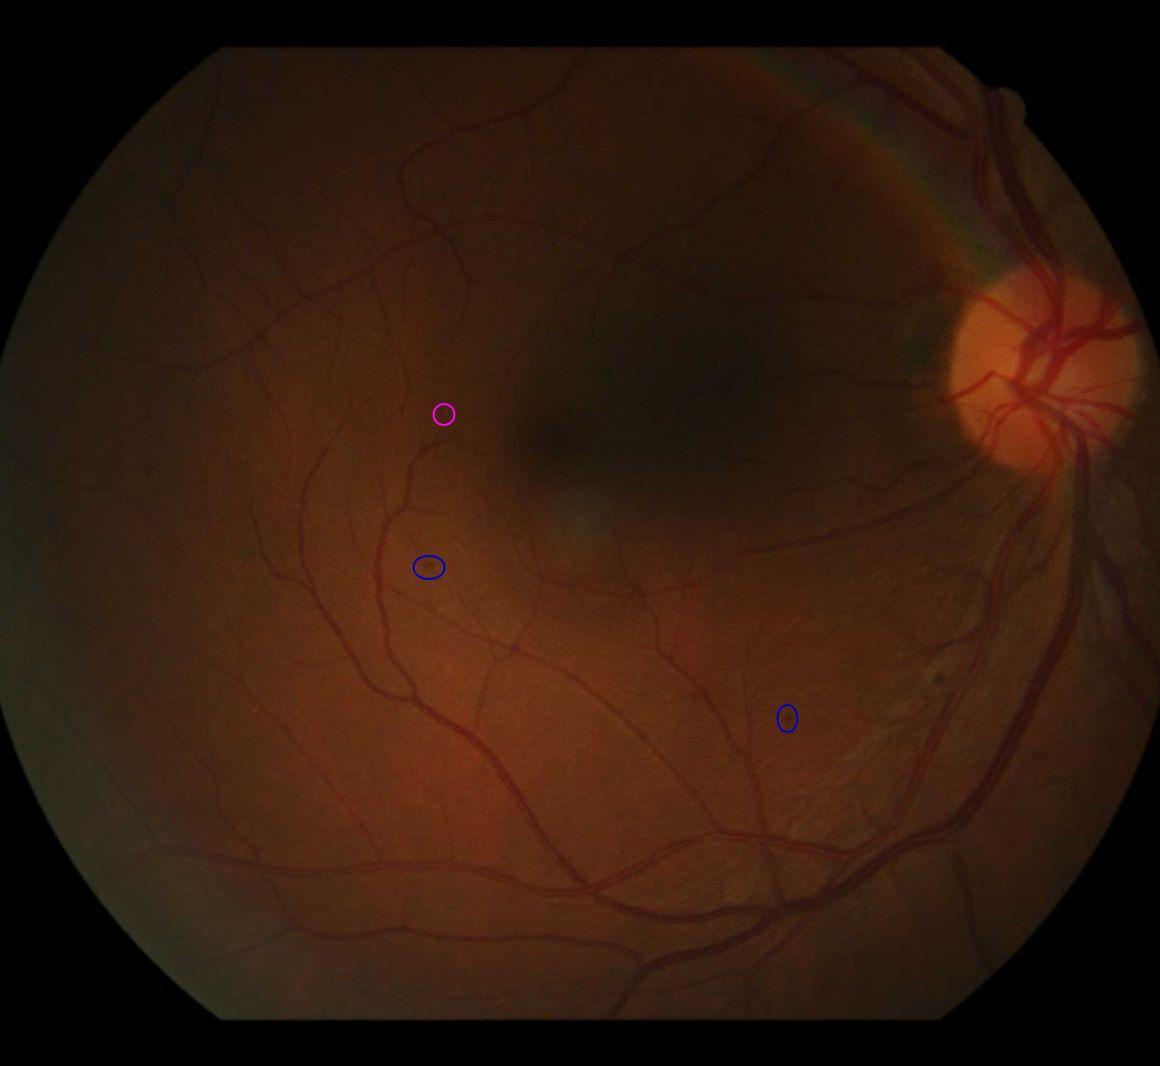视网膜前出血: (431, 402, 456, 427)
视网膜深层出血: (410, 553, 448, 583), (774, 702, 801, 735)
